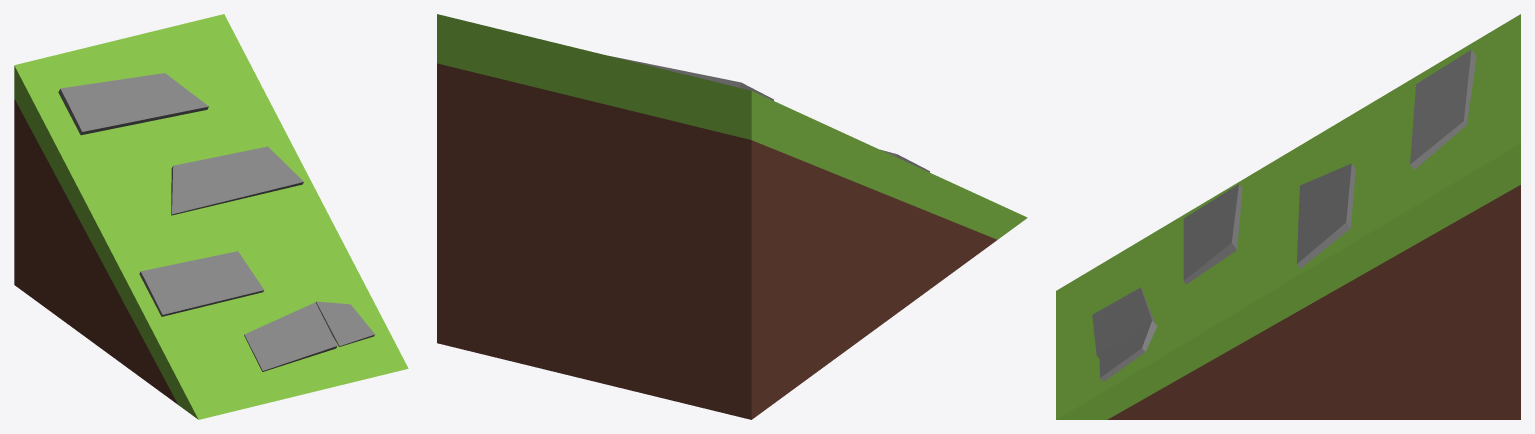
3 renders of one model, left to right at view 1: azimuth 30°, elevation 25°; view 2: azimuth 150°, elevation 25°; view 3: azimuth 270°, elevation 25°, orthographic. The views are drawn at different scales.
Visible parts, largest first — view 1: Cube.002; view 2: Cube.002; view 3: Cube.002.
Boxes of the visible parts, x1,y1,x2,y2 form: Cube.002: [14, 14, 408, 419]; Cube.002: [437, 14, 1027, 419]; Cube.002: [1056, 14, 1520, 419].
Size of the model in its own units: 200 by 200 by 304.
